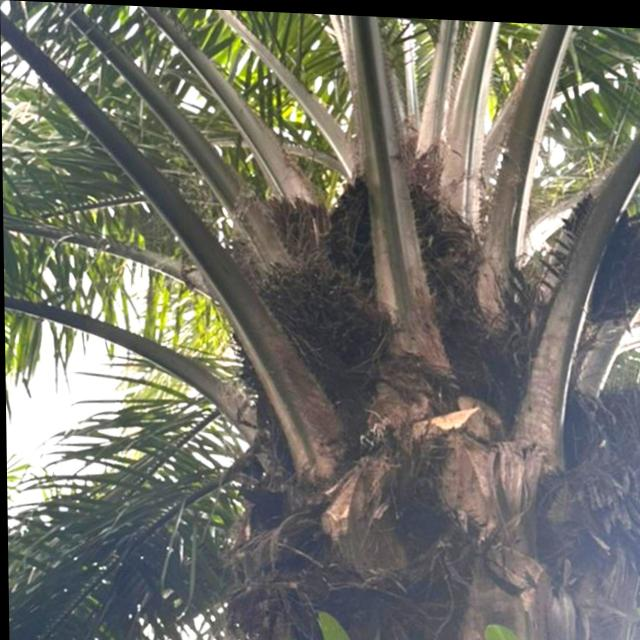unripe: (225, 248, 398, 427)
